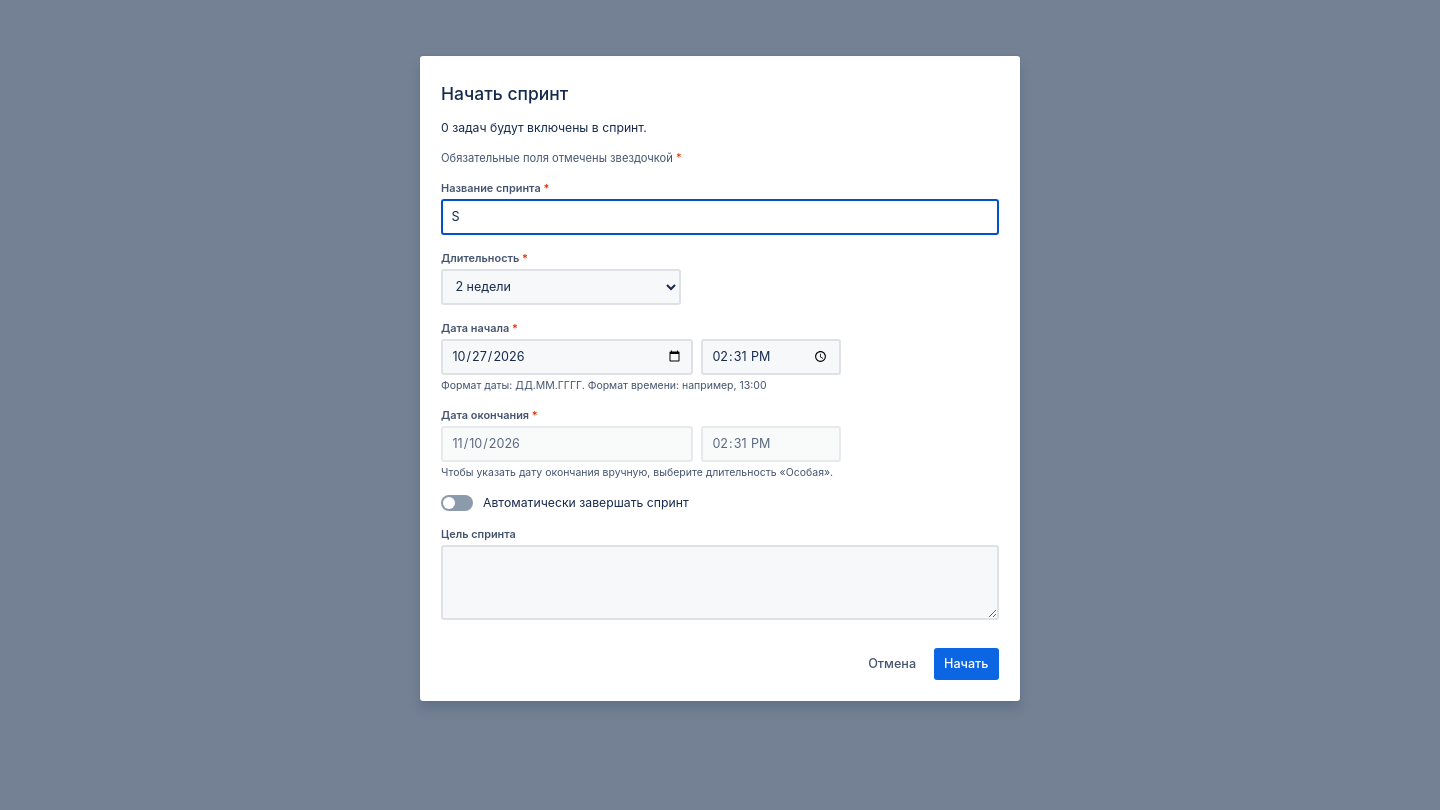
shows the server error and keeps the dialog open
The image size is (1440, 810).
Click the submit button at coordinates (966, 664), box top-left (934, 648), bottom-right (999, 680)
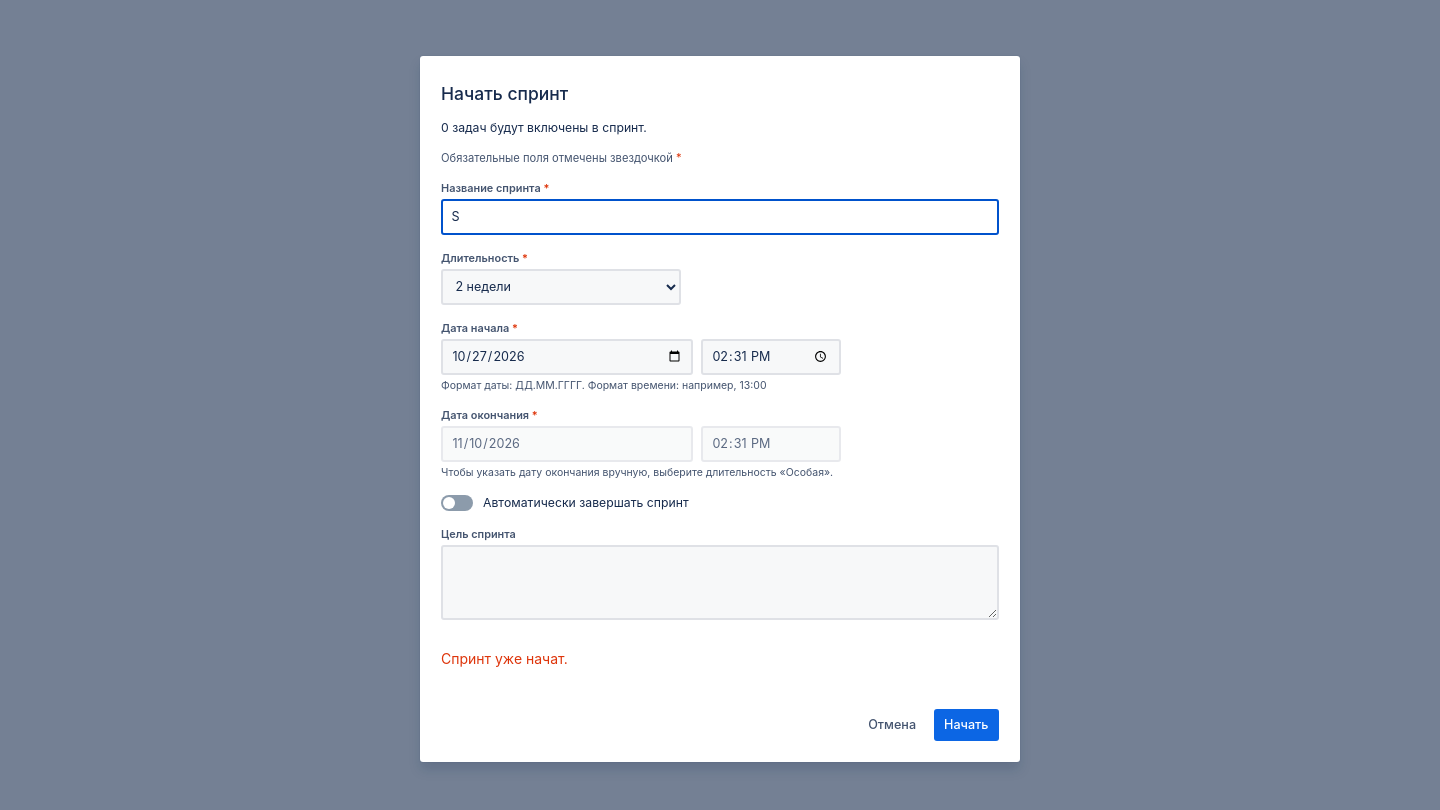
Check: the dialog is shown, box top-left (420, 56), bottom-right (1020, 762)
Check: the message "Спринт уже начат." is shown, box top-left (441, 650), bottom-right (568, 667)
